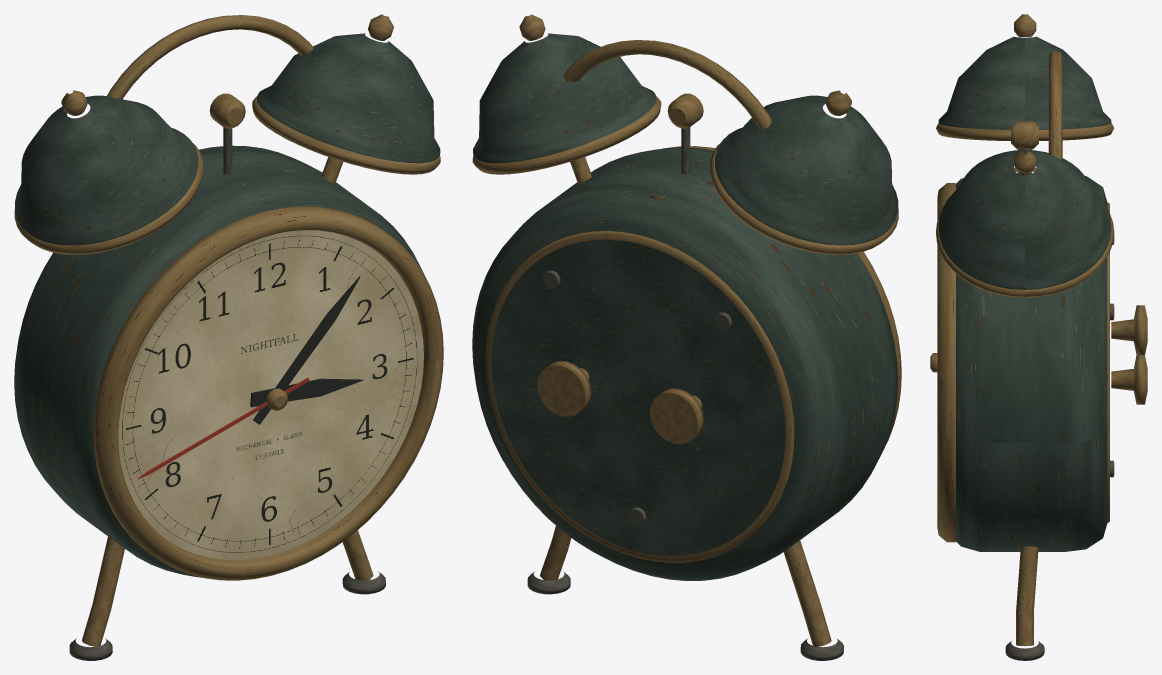
Rendered from alarm_clock.glb.
The picture shows the model from 3 angles, left to right: view 1: azimuth 30°, elevation 25°; view 2: azimuth 150°, elevation 25°; view 3: azimuth 270°, elevation 25°; orthographic projection. The views are drawn at different scales.
Parts seen in each view (by area): view 1: Clock_Body, Minute_Hand, Hammer_Pivot, Hour_Hand, Second_Hand; view 2: Clock_Body, Hammer_Pivot; view 3: Clock_Body, Hammer_Pivot.
Boxes of the visible parts, x1,y1,x2,y2 form: Clock_Body: (14, 14, 443, 660); Minute_Hand: (253, 276, 360, 424); Hammer_Pivot: (209, 93, 245, 174); Hour_Hand: (250, 378, 363, 407); Second_Hand: (138, 377, 309, 479); Clock_Body: (472, 14, 901, 660); Hammer_Pivot: (667, 93, 703, 174); Clock_Body: (930, 14, 1147, 660); Hammer_Pivot: (1011, 121, 1038, 175).
Size of the model in its own units: 0.1489 by 0.2105 by 0.078.
3 materials, 1 textured.
